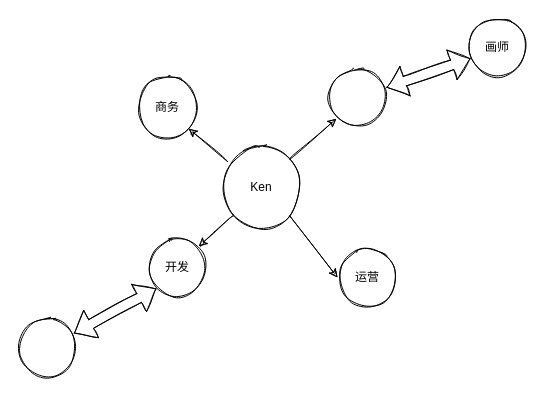
The diagram is 545 pixels wide and 395 high, and some of its shapes have lost their labels. The centre of each missing label's shape, as x and y in pixels:
"产品" belongs at point 357,97.
"外包" belongs at point 47,347.
